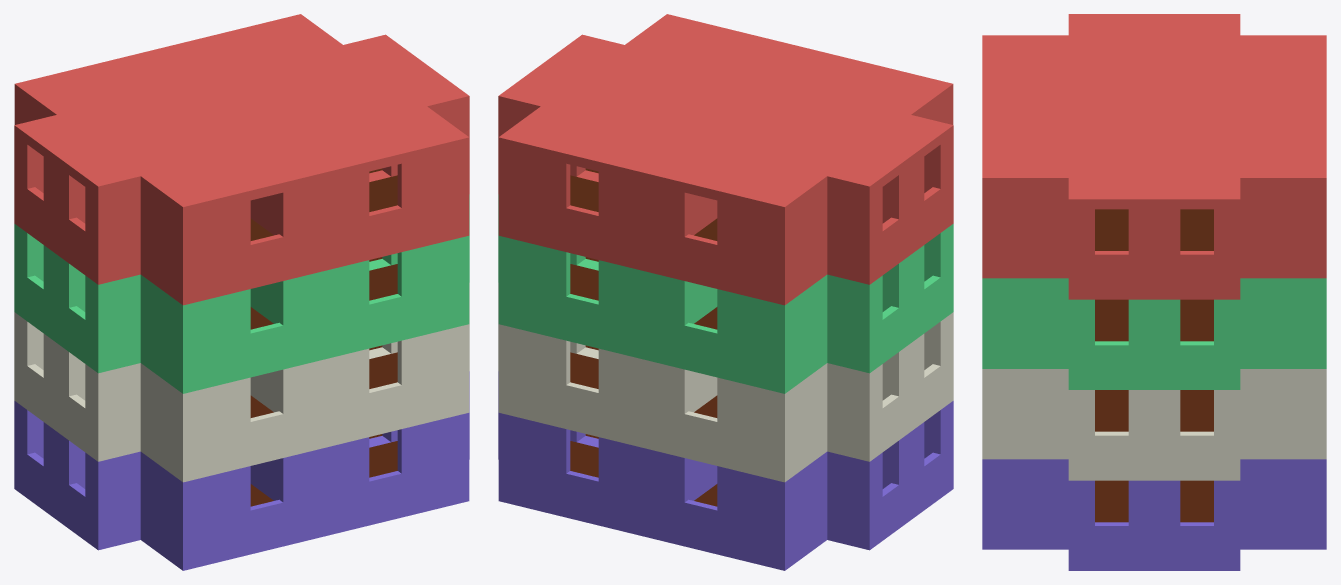
Rendered from testhotel.glb.
3 views of the same model, side by side, from view 1: azimuth 30°, elevation 25°; view 2: azimuth 150°, elevation 25°; view 3: azimuth 270°, elevation 25° (orthographic). The views are drawn at different scales.
Parts seen in each view (by area): view 1: third, third_roof, ground, second, first; view 2: third, third_roof, ground, second, first; view 3: third_roof, third, ground, first, second.
Boxes of the visible parts, x1,y1,x2,y2 form: third: [14, 14, 469, 305]; third_roof: [25, 18, 458, 202]; ground: [14, 371, 469, 570]; second: [14, 194, 469, 393]; first: [14, 283, 469, 482]; third: [498, 14, 953, 305]; third_roof: [509, 18, 942, 202]; ground: [498, 371, 953, 570]; second: [498, 194, 953, 393]; first: [498, 283, 953, 482]; third_roof: [990, 18, 1318, 195]; third: [982, 14, 1326, 299]; ground: [982, 459, 1326, 570]; first: [982, 369, 1326, 480]; second: [982, 278, 1326, 389].
Bounding box in the file's own units: 15.5 × 14.51 × 12.18.
